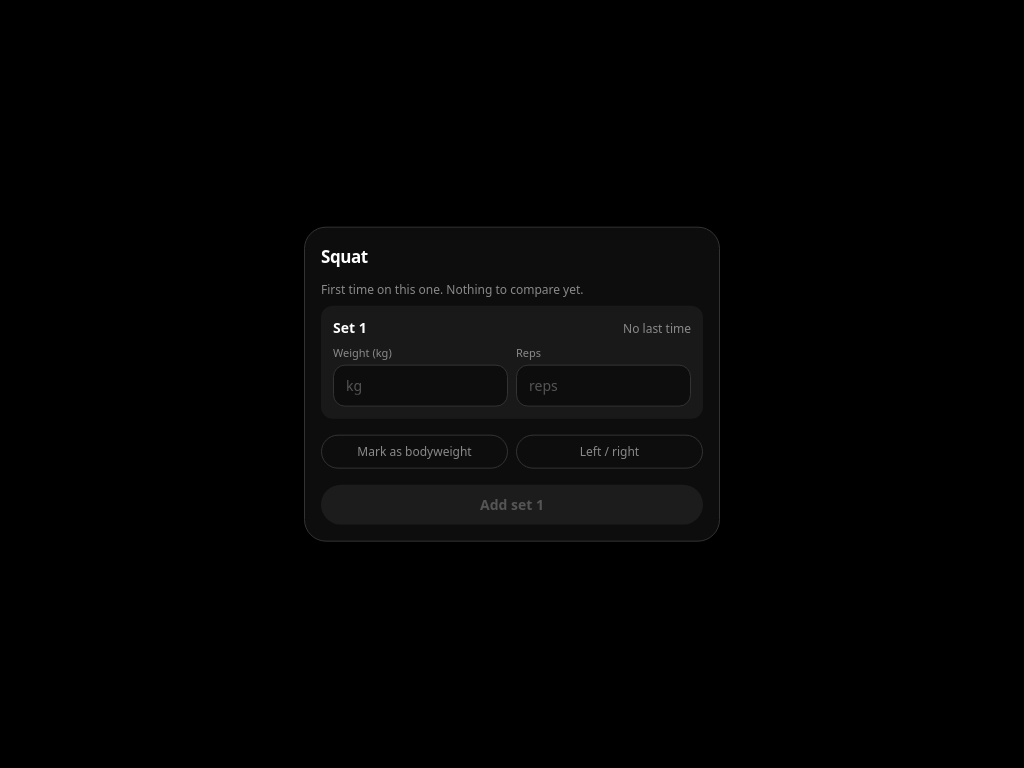
Test: ExerciseSheet, logging › requires reps, and requires weight unless bodyweight
Expected: the button "Add set 1" is disabled, [321,484,703,524]
Type "100" into the number field labelled "Weight (kg)" at (420, 385), box [333,364,508,406]
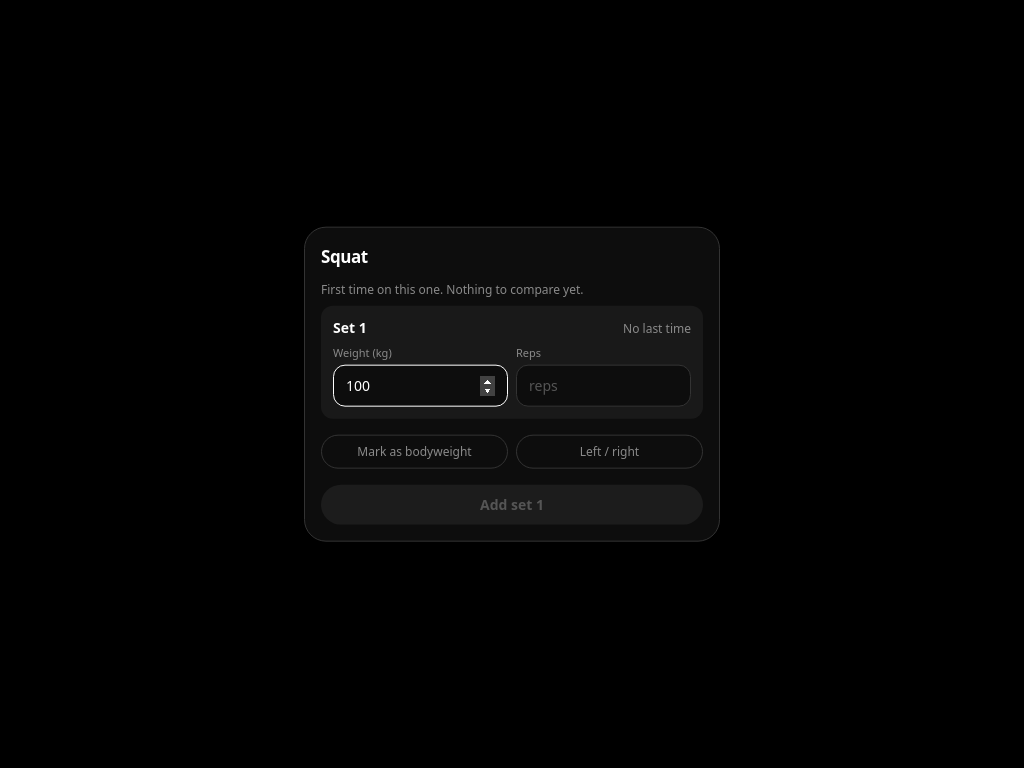
Expected: the button "Add set 1" is disabled, [321,484,703,524]
Type "5" into the number field labelled "Reps" at (604, 385), box [516,364,691,406]
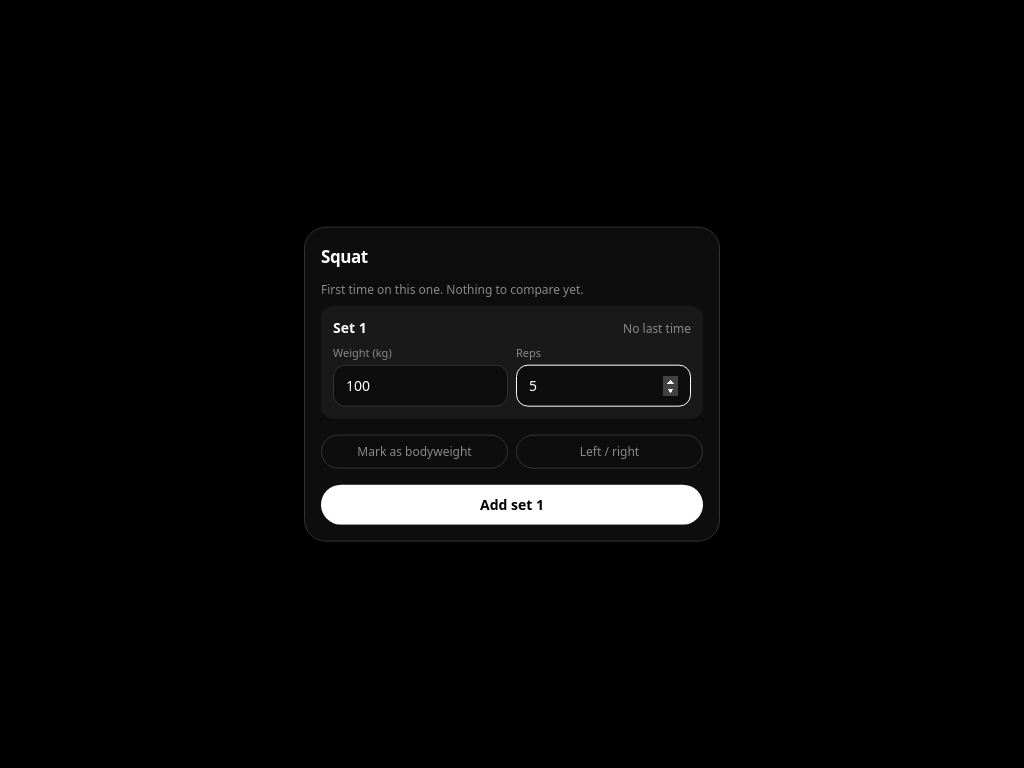
Expected: the button "Add set 1" is enabled, [321,484,703,524]
